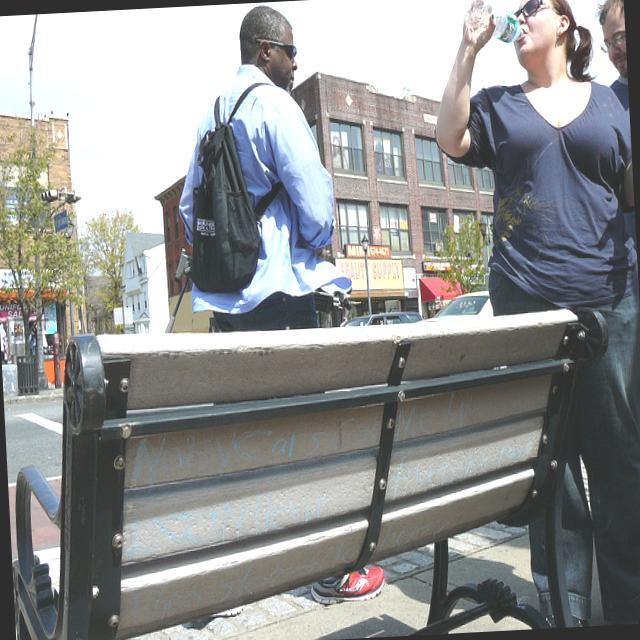Vehicle: (412, 290, 493, 323), (340, 310, 422, 327)
